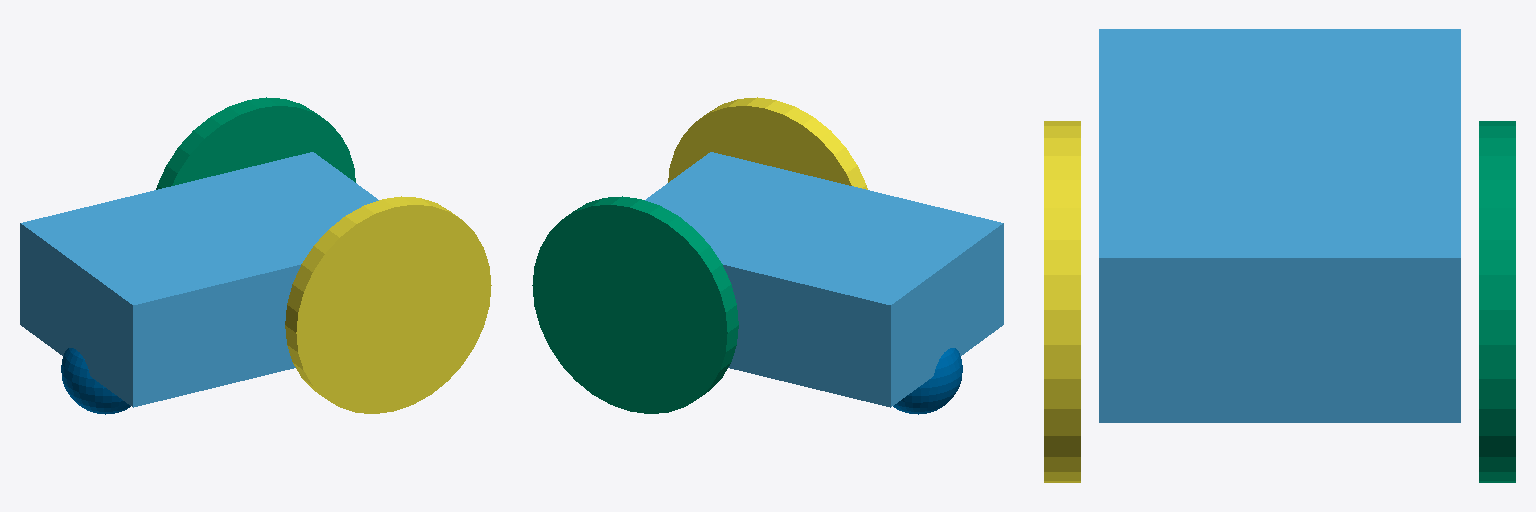
robot.urdf — sumo:
<?xml version="1.0"?>
<robot name="sumo">
  <link name="dummy">
  </link>
  
  <link name="base_link">
    <visual>
      <geometry>
        <box size="1.5 1 .5"/>
      </geometry>
    </visual>
    <collision>
      <geometry>
        <box size="1.5 1 .5"/>
      </geometry>
    </collision>
    <inertial>
      <mass value="10"/>
      <inertia ixx="2.08" ixy="0.0" ixz="0.0" iyy="2.71" iyz="0.0" izz="1.04"/>
    </inertial>
  </link>
  
  <link name="left_wheel">
    <visual>
      <geometry>
        <cylinder length="0.1" radius="0.5"/>
      </geometry>
    </visual>
    <collision>
      <geometry>
        <cylinder length="0.1" radius="0.5"/>
      </geometry>
    </collision>
    <inertial>
      <mass value="1"/>
      <inertia ixx="0.06" ixy="0.0" ixz="0.0" iyy="0.06" iyz="0.0" izz="0.25"/>
    </inertial>
  </link>
  
  <link name="right_wheel">
    <visual>
      <geometry>
        <cylinder length="0.1" radius="0.5"/>
      </geometry>
    </visual>
    <collision>
      <geometry>
        <cylinder length="0.1" radius="0.5"/>
      </geometry>
    </collision>
    <inertial>
      <mass value="1"/>
      <inertia ixx="0.06" ixy="0.0" ixz="0.0" iyy="0.06" iyz="0.0" izz="0.13"/>
    </inertial>
  </link>
  
  <link name="back_wheel">
    <visual>
      <geometry>
        <sphere radius="0.2"/>
      </geometry>
    </visual>
    <collision>
      <geometry>
        <sphere radius="0.2"/>
      </geometry>
    </collision>
    <inertial>
      <mass value="1"/>
      <inertia ixx="0.03" ixy="0.0" ixz="0.0" iyy="0.03" iyz="0.0" izz="0.03"/>
    </inertial>
  </link>

  <link name="head">
    <visual>
      <geometry>
        <mesh filename="package://sumo/meshes/head.dae" scale="5 5 5"/>
      </geometry>
    </visual>
  </link>
    
  
  <joint name="dummy_joint" type="fixed">
    <parent link="dummy"/>
    <child link="base_link"/>
  </joint>
  
  <joint name="base_to_left_wheel" type="continuous">
    <axis xyz="0 0 1"/>
    <parent link="base_link"/>
    <child link="left_wheel"/>
    <origin rpy="1.57075 0 0" xyz=".5 0.6 0"/>
  </joint>
  
  <joint name="base_to_right_wheel" type="continuous">
    <axis xyz="0 0 1"/>
    <parent link="base_link"/>
    <child link="right_wheel"/>
    <origin rpy="1.57075 0 0" xyz=".5 -0.6 0"/>
  </joint>
  
  <joint name="base_to_back_wheel" type="fixed">
    <parent link="base_link"/>
    <child link="back_wheel"/>
    <origin rpy="0 0 0" xyz="-0.6 0 -0.3"/>
  </joint>
  
  <joint name="base_to_head" type="fixed">
    <parent link="base_link"/>
    <child link="head"/>
    <origin rpy="0 0 0" xyz="0.5 0 0.25"/>
  </joint>
  
</robot>

--- What the picture shows (computed from the rendered views, not written in the file) ---
3 views of the same robot in one strip: view 1: azimuth 30°, elevation 25°; view 2: azimuth 150°, elevation 25°; view 3: azimuth 270°, elevation 25° (orthographic).
Robot: sumo — 6 links, 5 joints (2 continuous, 3 fixed); root link dummy; default pose: all joints at 0.
Links seen in each view (by area): view 1: base_link, right_wheel, left_wheel, back_wheel; view 2: base_link, left_wheel, right_wheel, back_wheel; view 3: base_link, left_wheel, right_wheel.
Boxes of the visible links, <box> form: base_link: <box>20,152,378,407</box>; right_wheel: <box>285,196,491,413</box>; left_wheel: <box>156,97,355,189</box>; back_wheel: <box>61,348,130,414</box>; base_link: <box>645,152,1003,407</box>; left_wheel: <box>532,196,738,413</box>; right_wheel: <box>668,97,867,189</box>; back_wheel: <box>893,348,962,414</box>; base_link: <box>1099,29,1460,422</box>; left_wheel: <box>1479,121,1515,482</box>; right_wheel: <box>1044,121,1080,482</box>.
Bounding box of the posed robot: 1.8 × 1.3 × 1 m (x, y, z).
0 mesh visuals loaded from 1 distinct referenced files (none loaded); not drawn: 1 (reference not matched to a file when rendering).